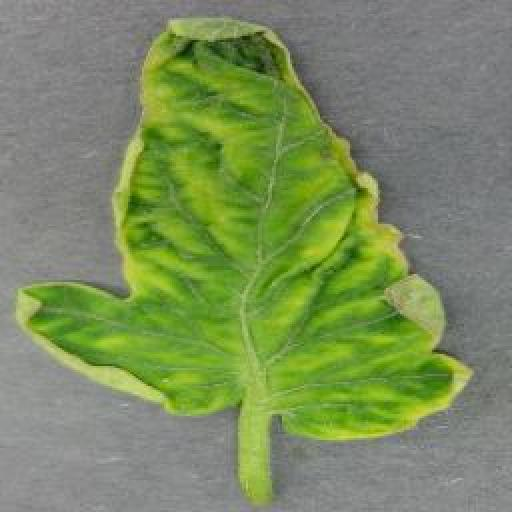disease_tomato: (20, 13, 478, 447)
